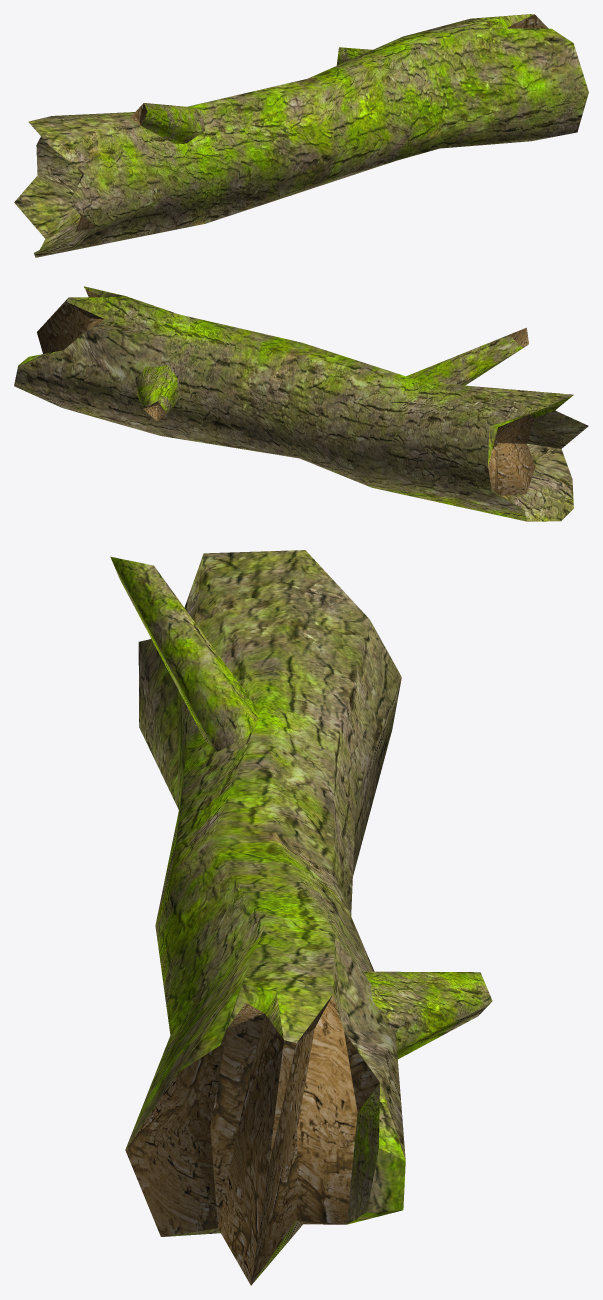
The model's file is sb_obj_ruins010_log01_col.fbx.
The picture shows the model from 3 angles, top to bottom: view 1: azimuth 30°, elevation 25°; view 2: azimuth 150°, elevation 25°; view 3: azimuth 270°, elevation 25°; orthographic projection. The views are drawn at different scales.
Visible parts, largest first — view 1: sb_obj_ruins010_log01_col; view 2: sb_obj_ruins010_log01_col; view 3: sb_obj_ruins010_log01_col.
Part boxes in pixels (x1,y1,x2,y2): sb_obj_ruins010_log01_col: (14, 14, 588, 257); sb_obj_ruins010_log01_col: (14, 286, 588, 521); sb_obj_ruins010_log01_col: (110, 550, 492, 1285).
Size of the model in its own units: 2.83 by 0.7794 by 0.8862.
